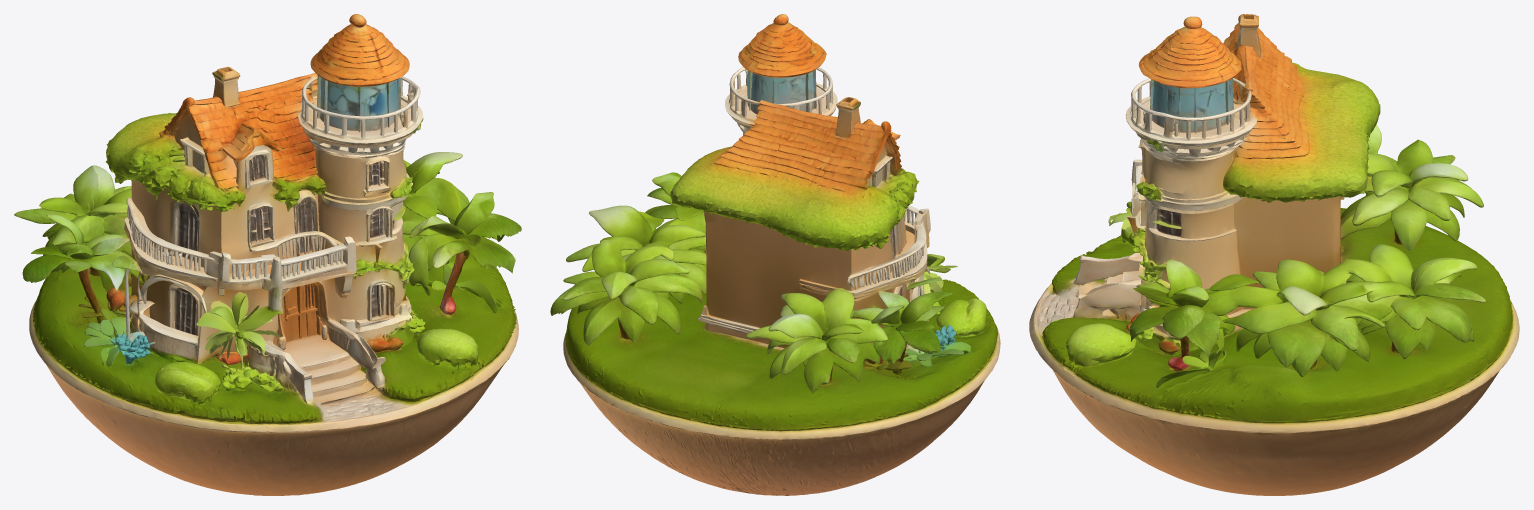
Rendered from magic-garden-planet.glb.
3 views of the same model, side by side, from view 1: azimuth 30°, elevation 25°; view 2: azimuth 150°, elevation 25°; view 3: azimuth 270°, elevation 25° (orthographic). The views are drawn at different scales.
Parts seen in each view (by area): view 1: model; view 2: model; view 3: model.
Boxes of the visible parts, x1=… form: model: x1=14, y1=14, x2=521, y2=495; model: x1=550, y1=14, x2=1000, y2=495; model: x1=1029, y1=14, x2=1519, y2=495.
Size of the model in its own units: 1.78 by 1.89 by 1.78.
Materials: 1 (1 with a texture image).
